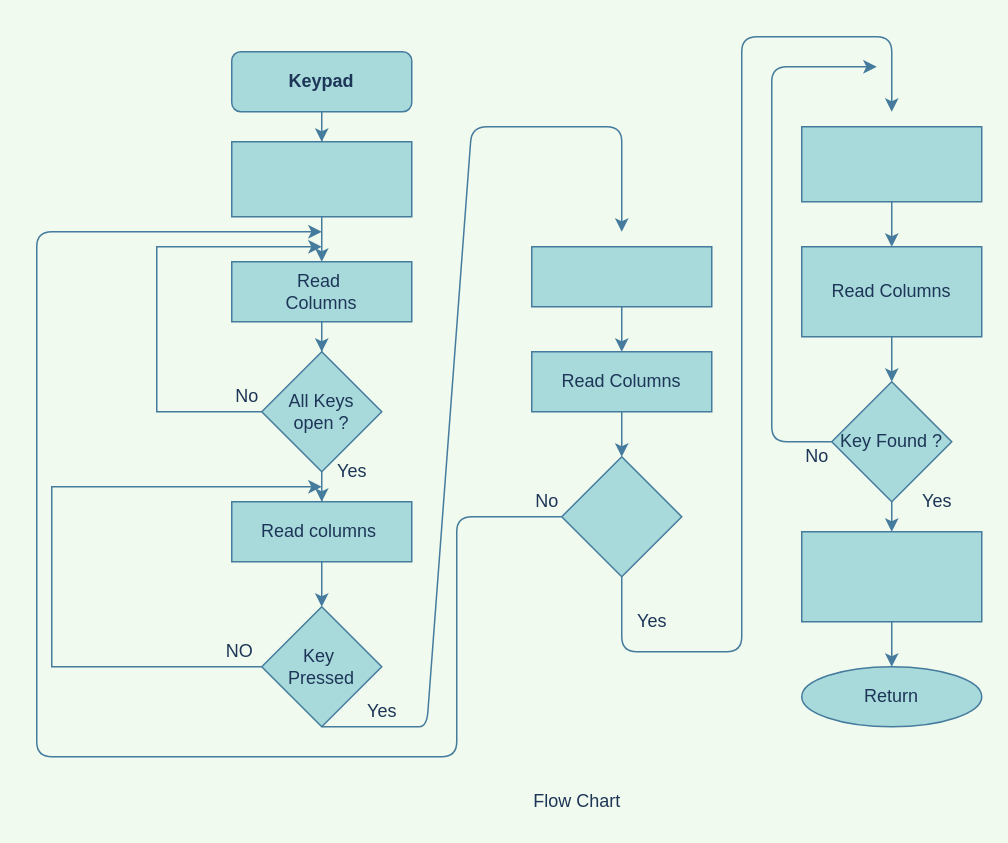
This 1008x843 diagram has some shape labels left out. Here are the shapes that lost their labels. From the top down, the centre of each, then its label:
At [321,178]: "Zero To All Rows".
At [891,163]: "Output Zero To One row".
At [621,276]: "Wait 20ms".
At [621,516]: "Key Pressed ?".
At [891,576]: "Convert To Hex".
